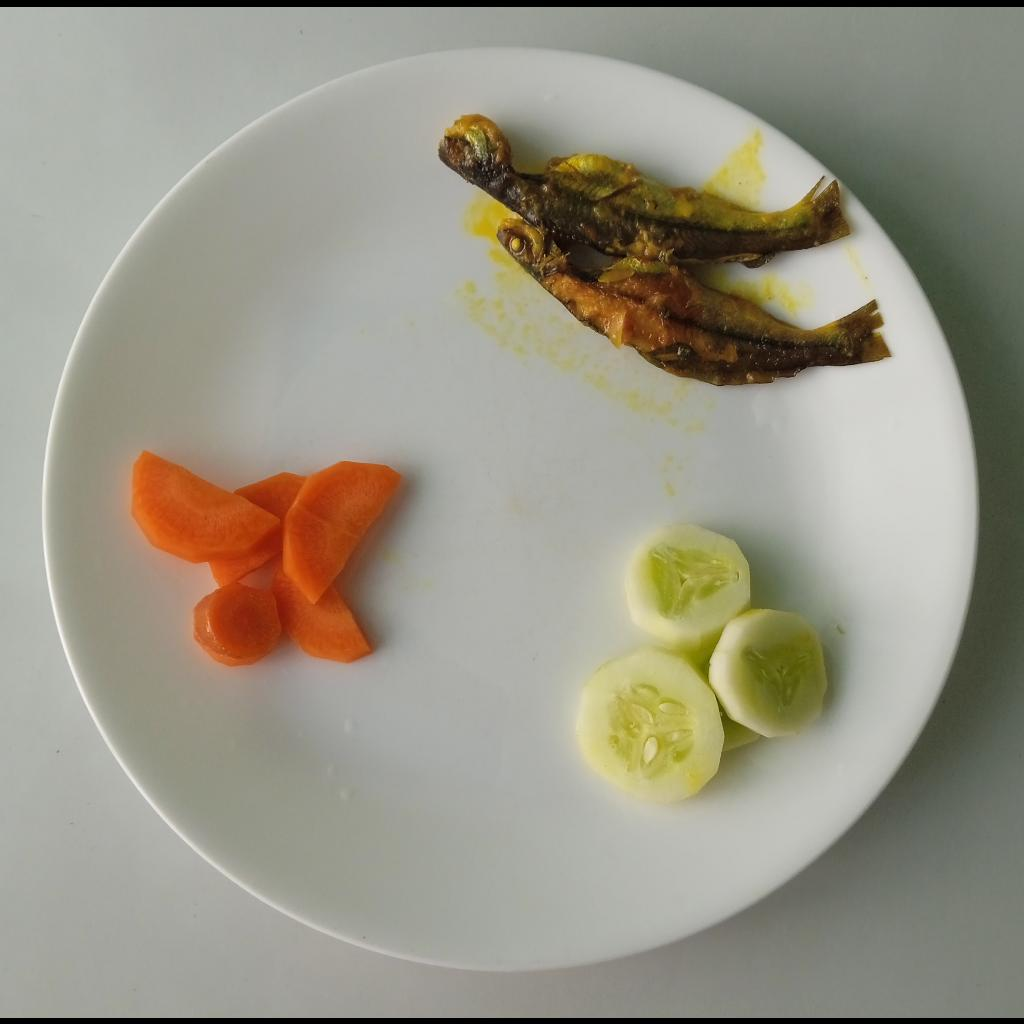carrot: (122, 450, 409, 669)
cucumber: (574, 523, 832, 802)
fish: (498, 223, 895, 384), (433, 115, 847, 265)
